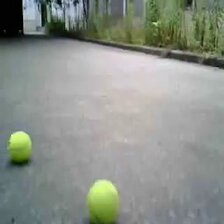tennis: (85, 179, 120, 224), (7, 132, 31, 160)
